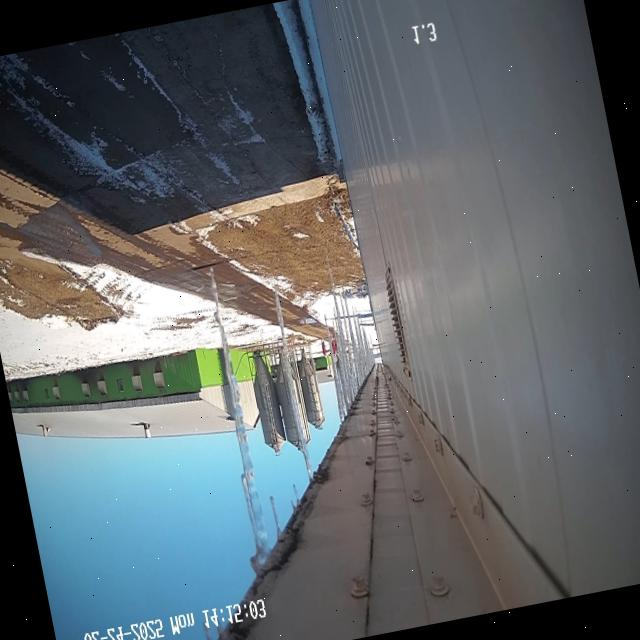Red uniform: (321, 339, 328, 357)
